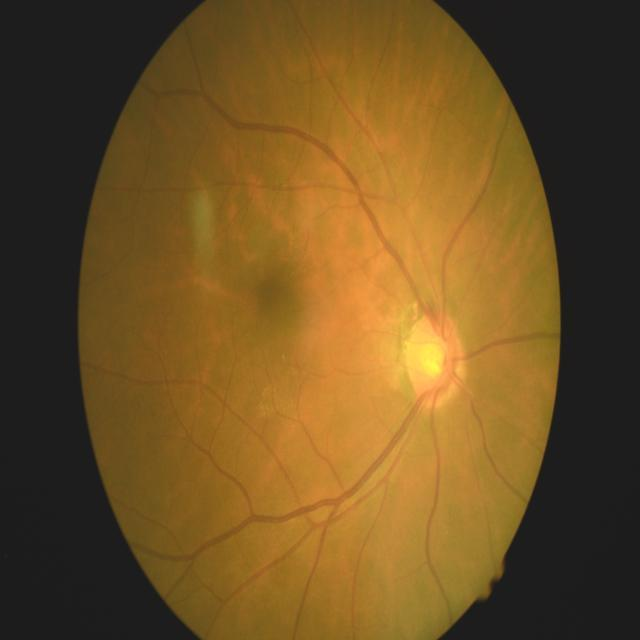cup: (416, 330, 450, 390)
disk: (406, 310, 465, 408)
